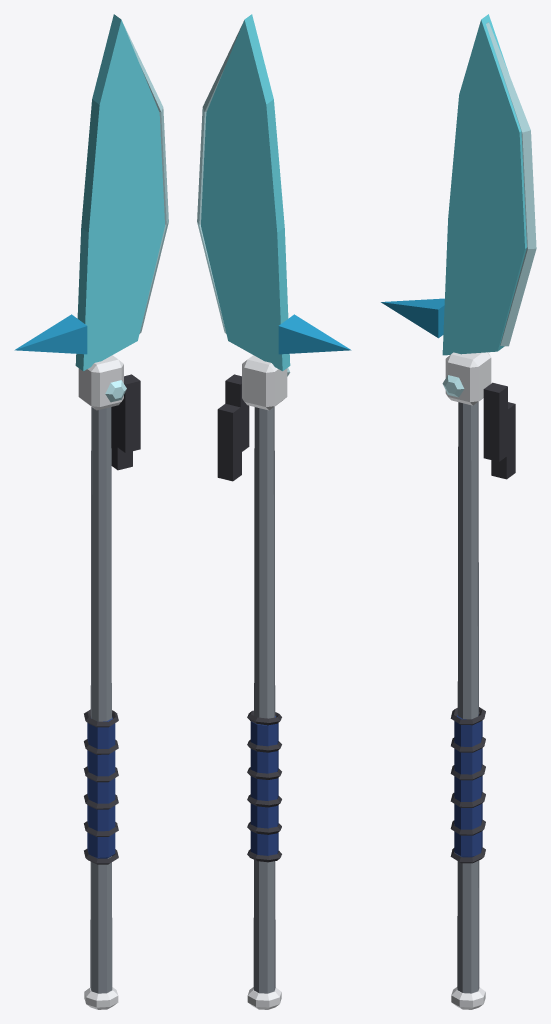
File: DiamondGlaive.fbx
The picture shows the model from 3 angles, left to right: view 1: azimuth 30°, elevation 25°; view 2: azimuth 150°, elevation 25°; view 3: azimuth 330°, elevation 25°; orthographic projection.
Parts seen in each view (by area): view 1: DiamondGlaive; view 2: DiamondGlaive; view 3: DiamondGlaive.
Part boxes in pixels (x1,y1,x2,y2): DiamondGlaive: (14, 14, 168, 1009); DiamondGlaive: (197, 14, 351, 1009); DiamondGlaive: (381, 14, 536, 1009).
Size of the model in its own units: 1.42 by 8.62 by 0.46.
Materials: 1 (1 with a texture image).
